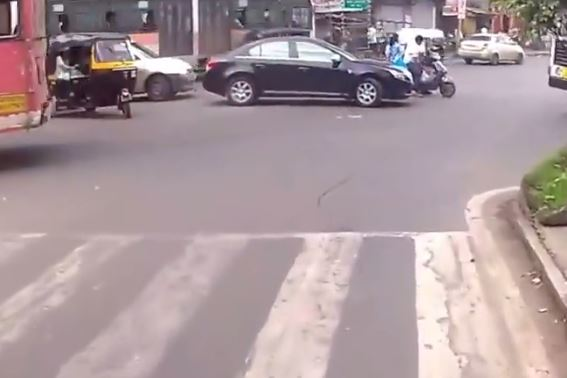autorickshaw: (48, 30, 139, 134)
car: (196, 26, 418, 129), (134, 34, 195, 111), (455, 24, 535, 80)
